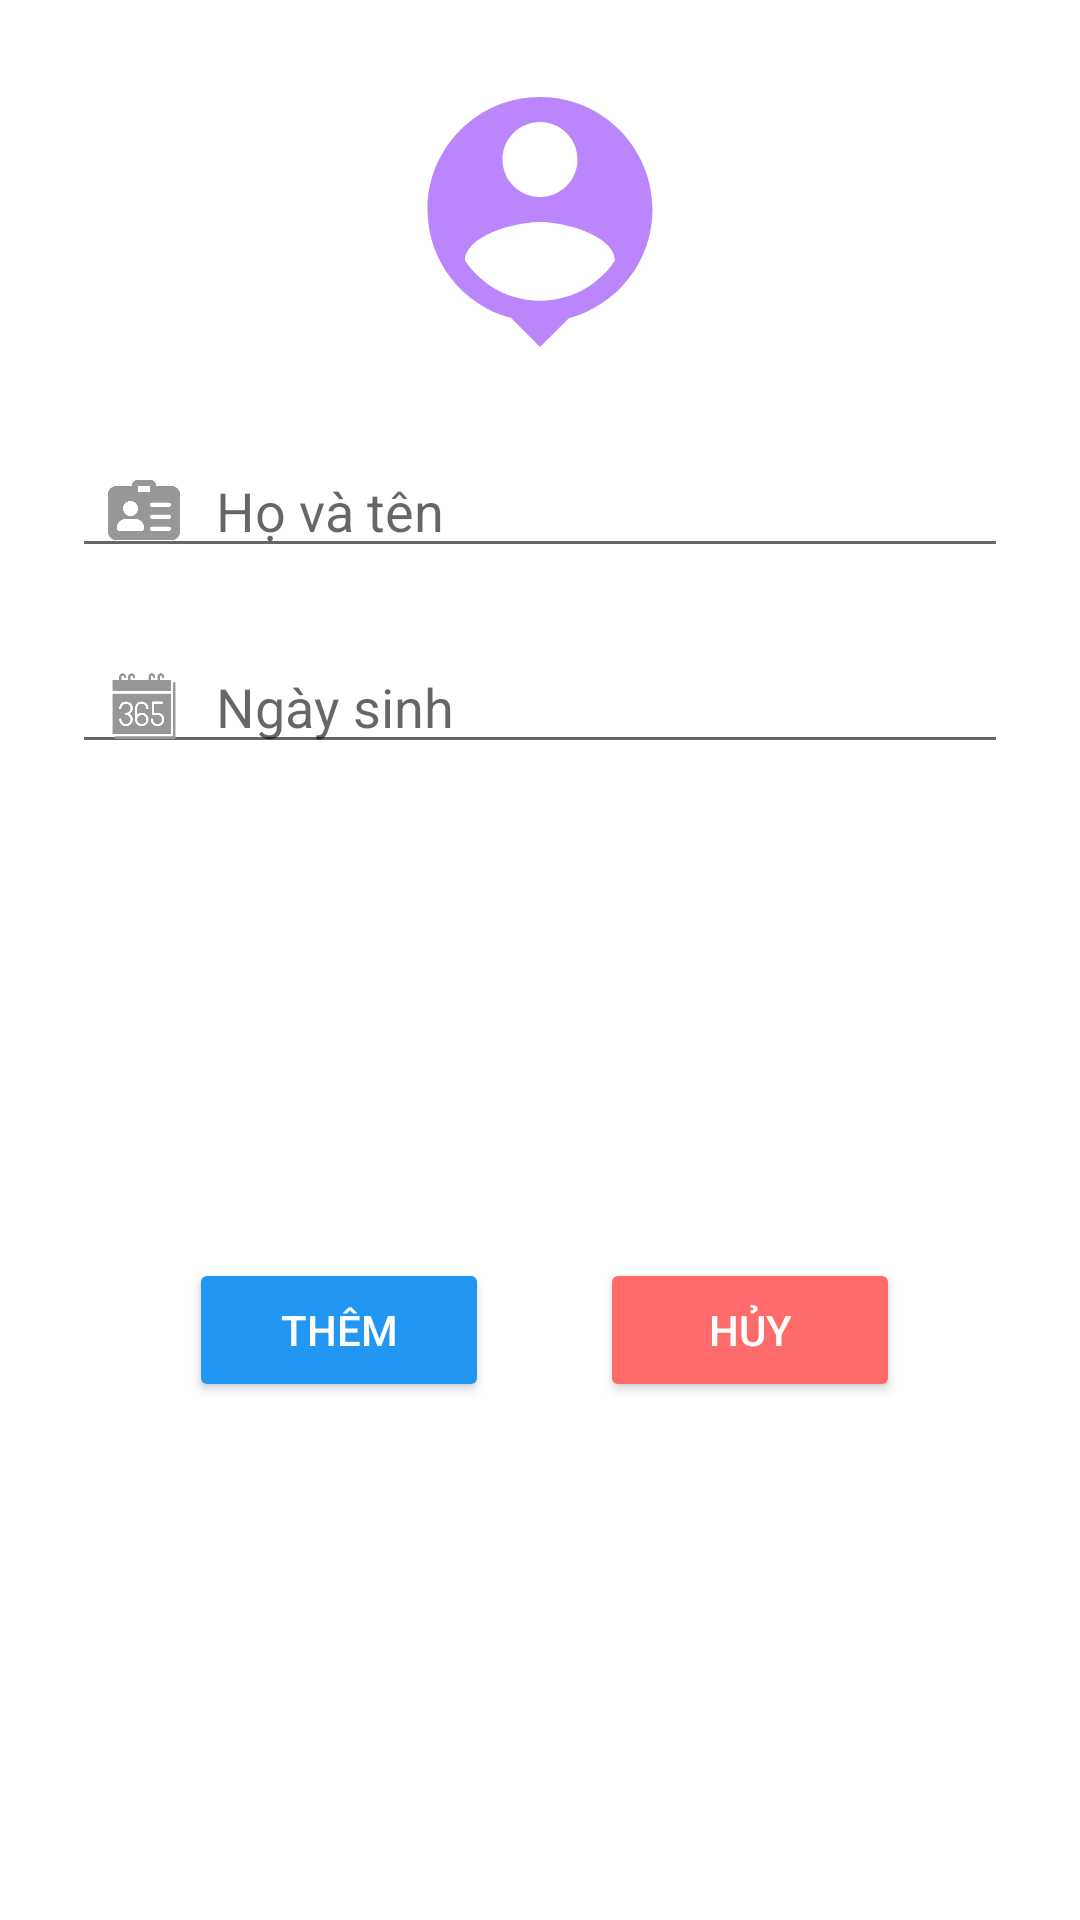

Icon bounding boxes for this 1080w x 1920h phone screenshot, format bbox(x1, y1, x2, y2):
person pin: bbox(427, 97, 653, 347)
